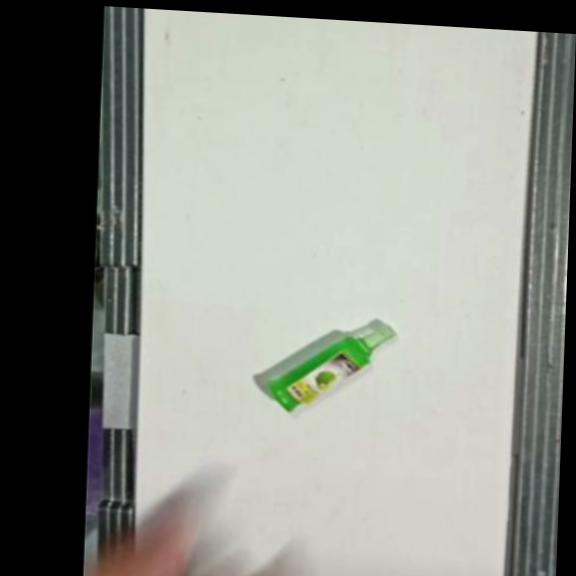Plastik: (266, 317, 396, 418)
